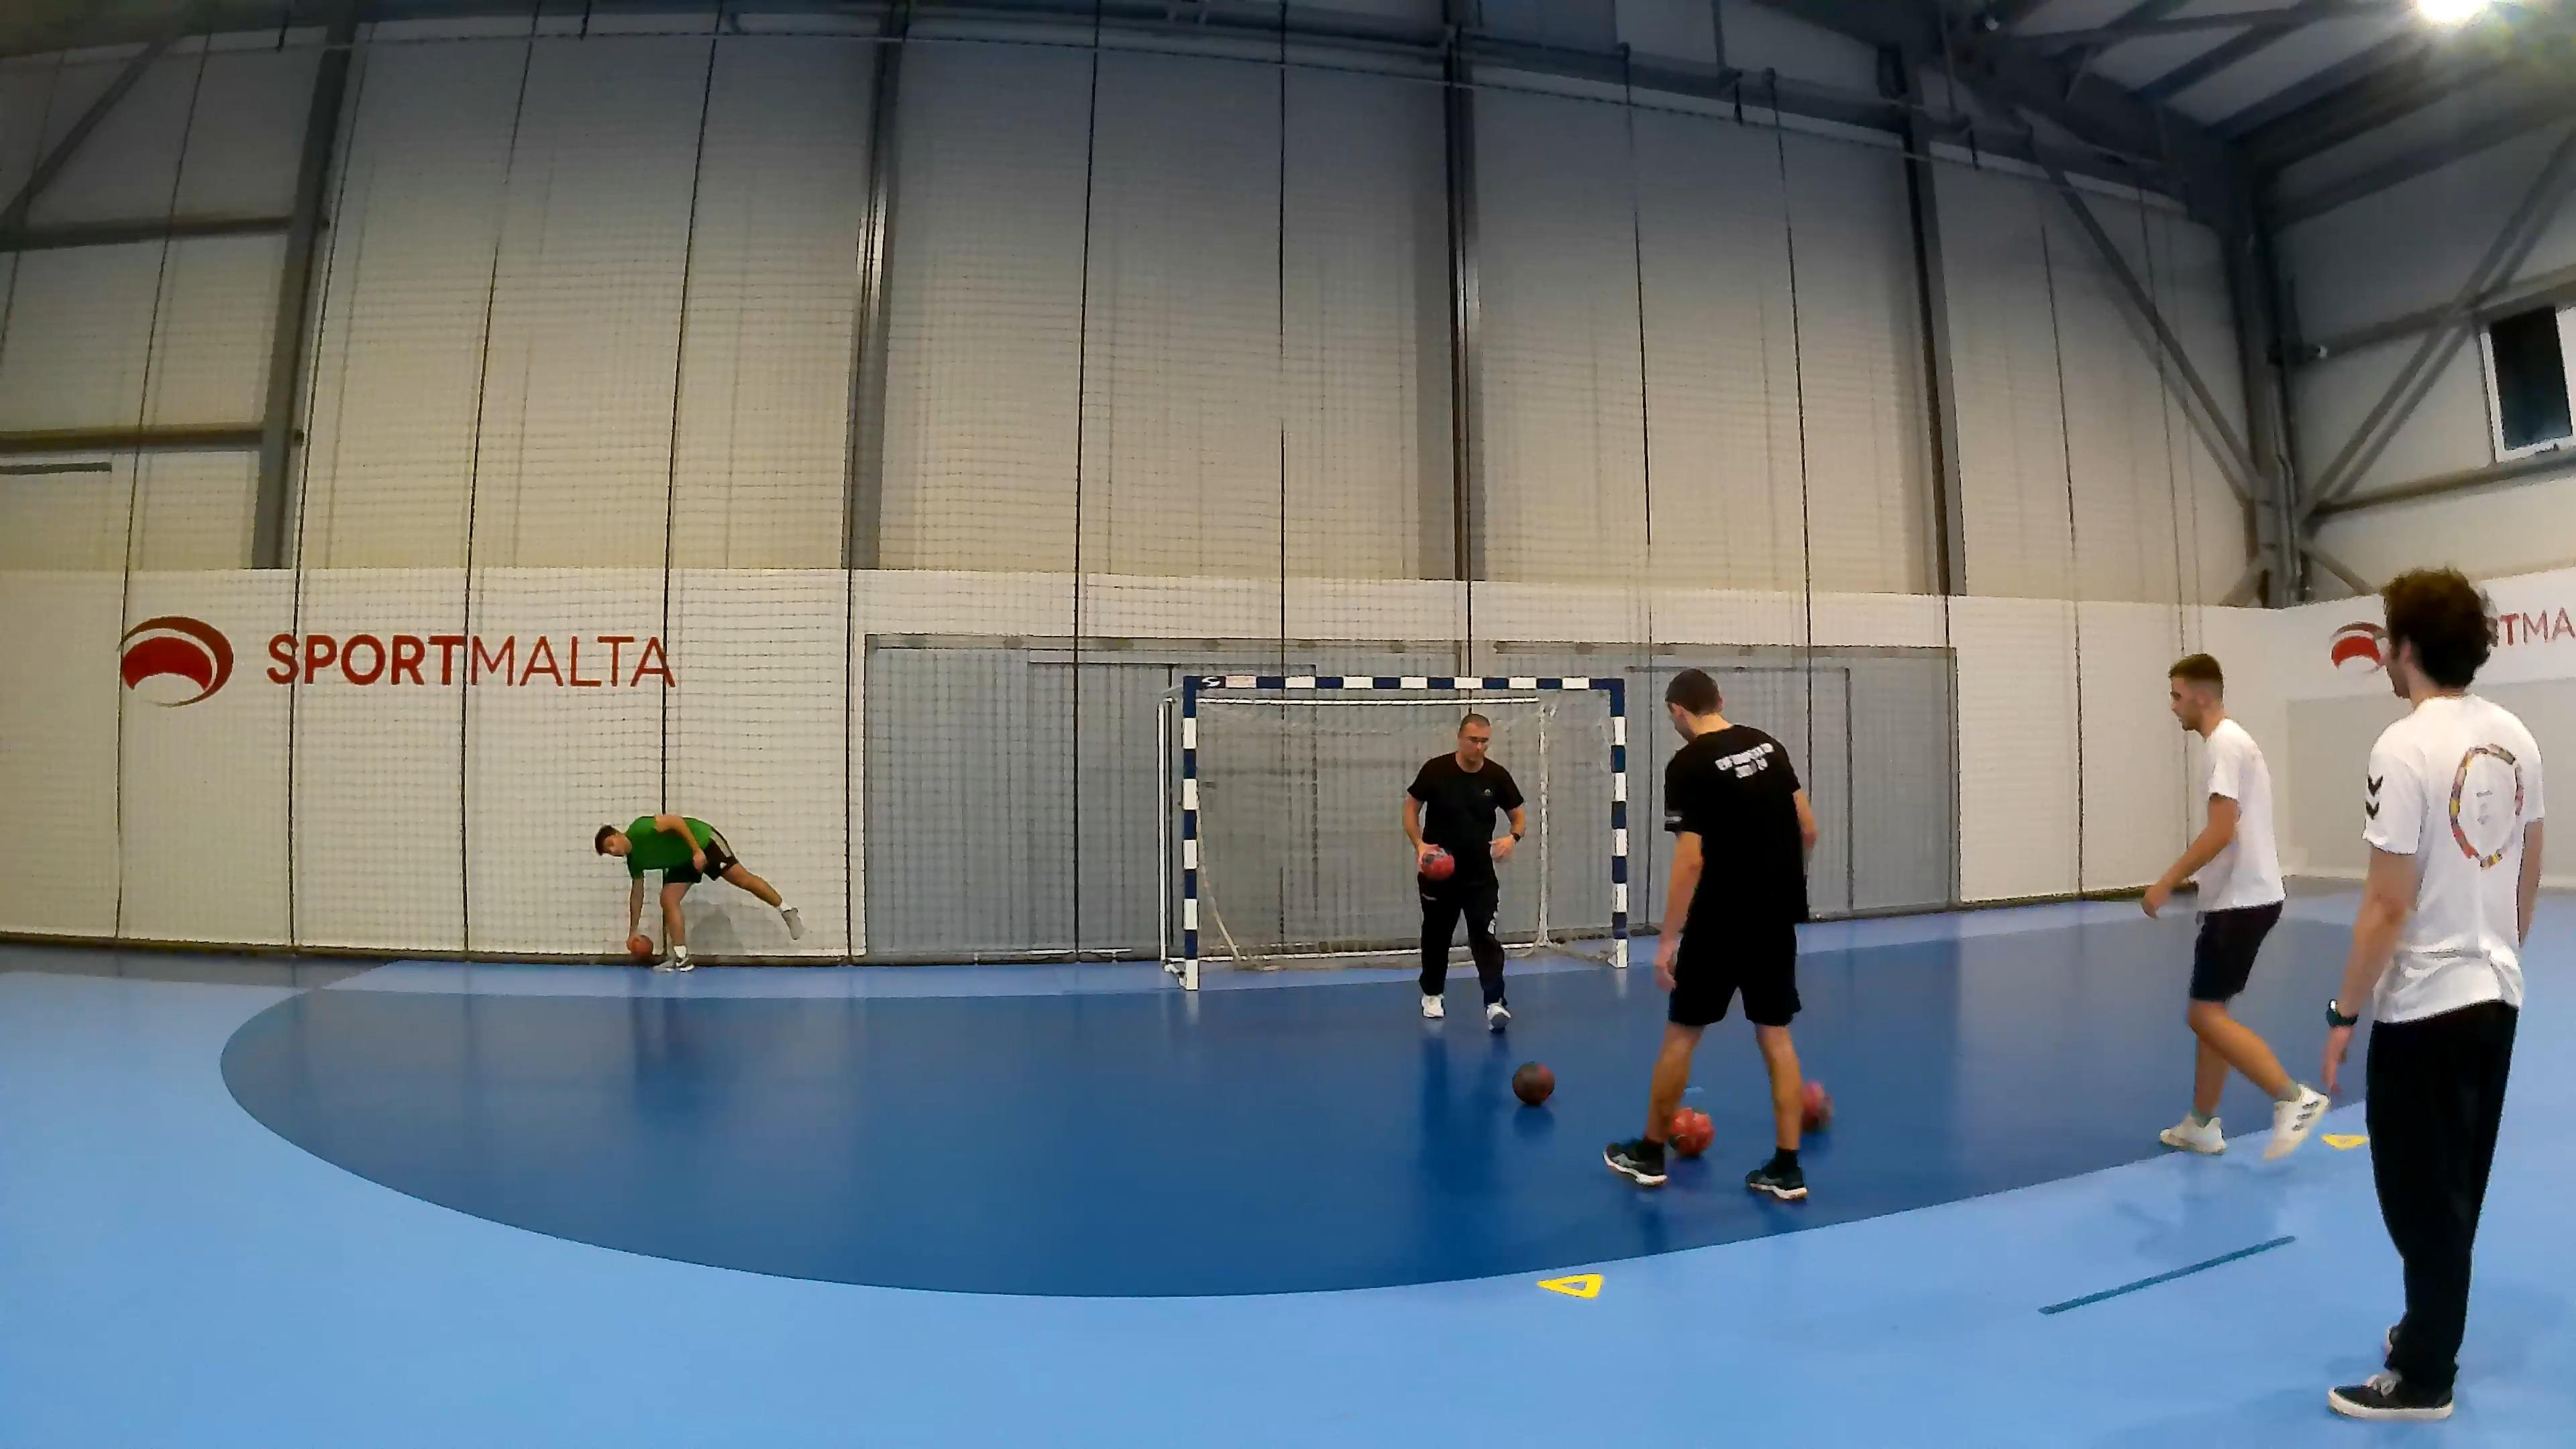handball: (1667, 1106, 1713, 1157), (1422, 842, 1460, 897), (1511, 1062, 1555, 1106)
